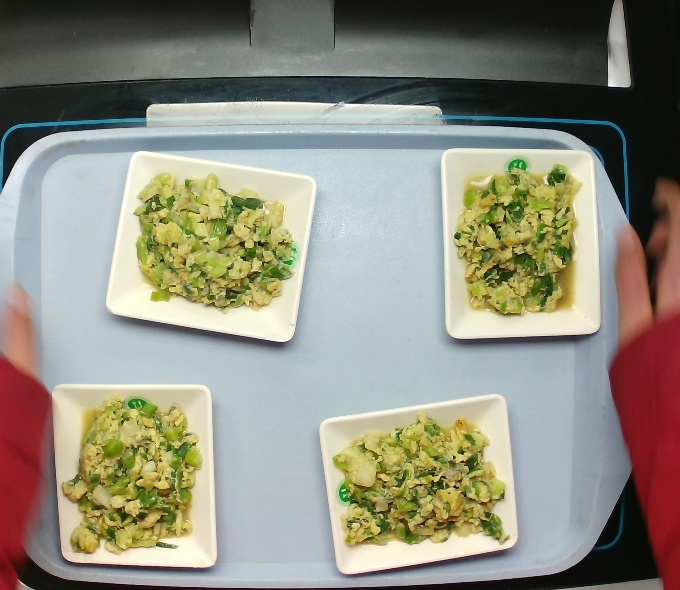wcq-SuanMiaoChaoDan: (333, 419, 513, 553), (131, 174, 297, 313), (58, 397, 200, 555), (447, 163, 589, 321)
